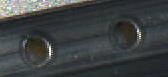joints: (107, 14, 145, 53), (17, 29, 54, 68)
